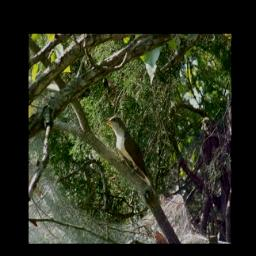Cuckoo: (105, 113, 161, 203)
